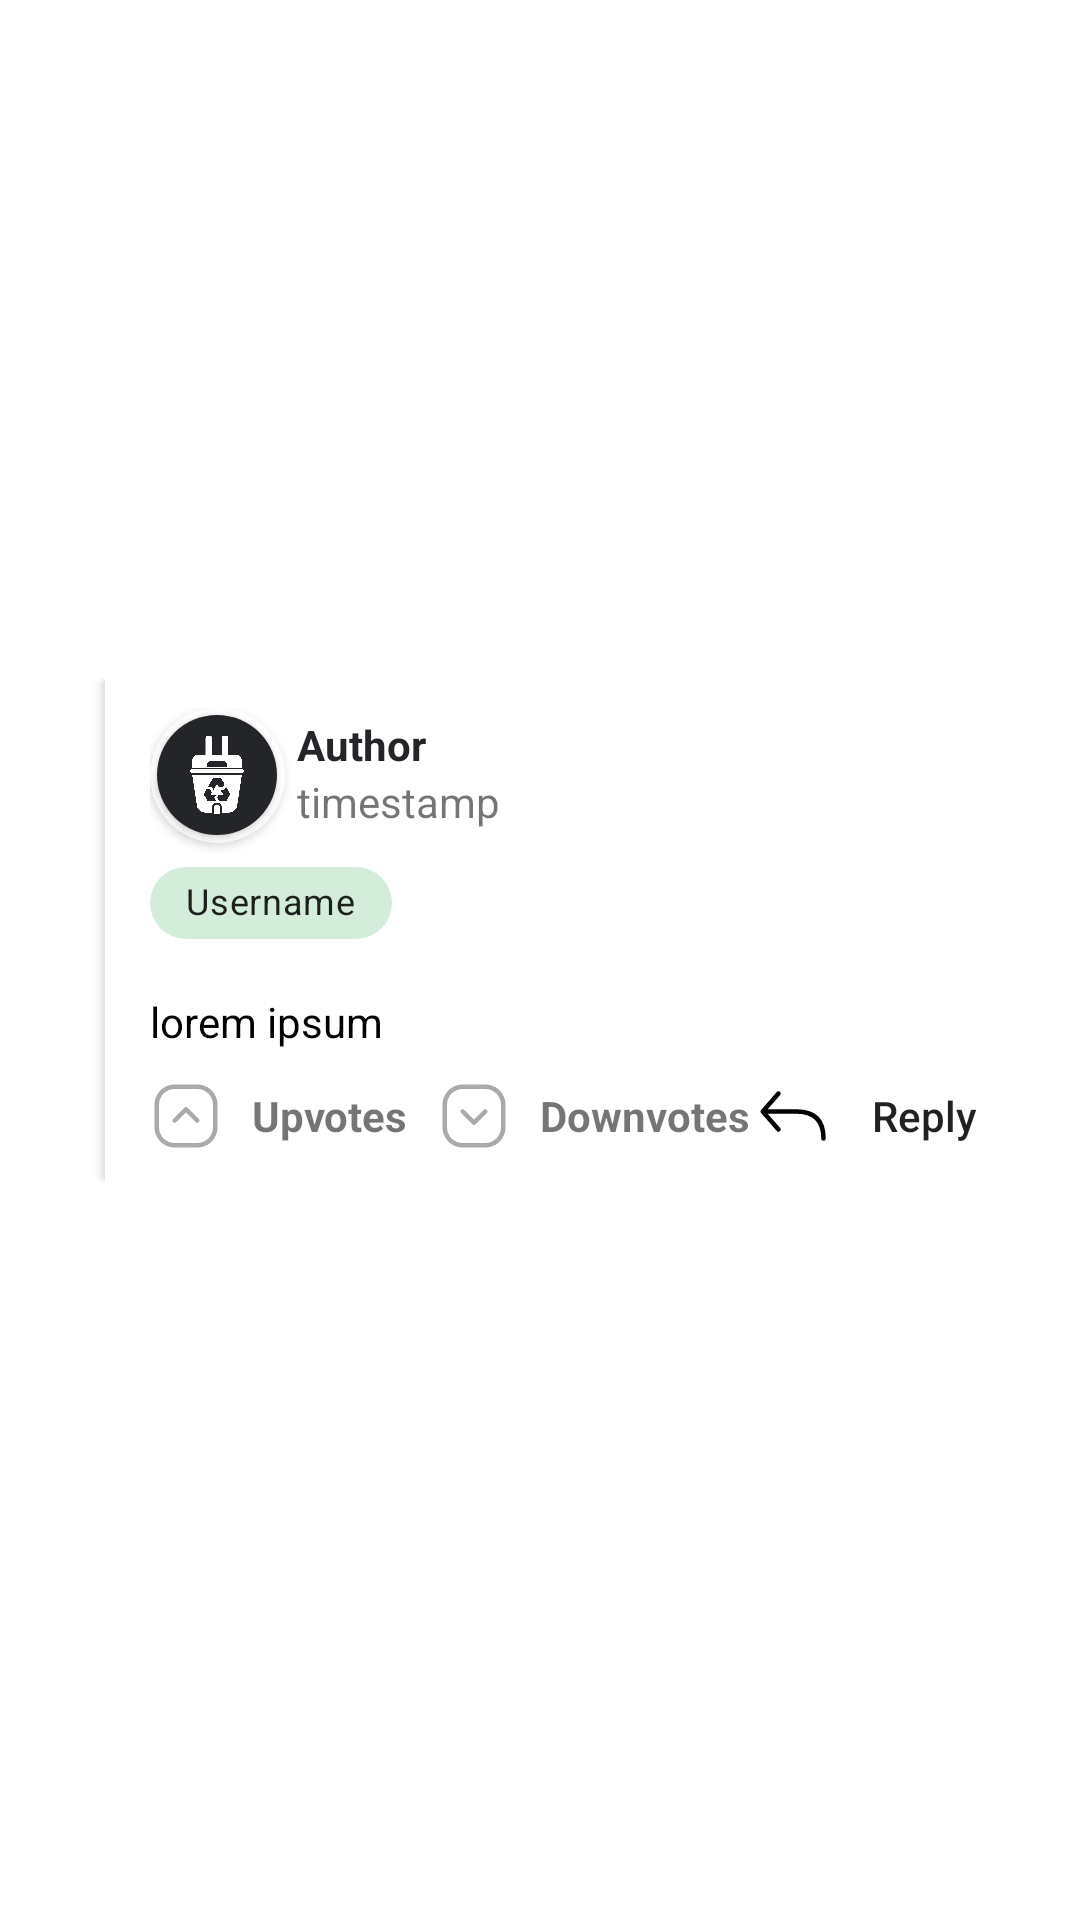

Screen size 1080x1920. Icon name, then its center in pixels as point (x, y):
vote toggle: point (186, 1116)
